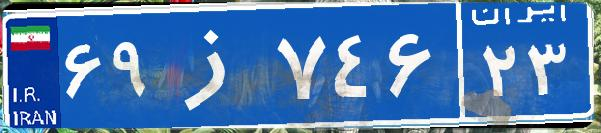2: (475, 38, 525, 113)
3: (525, 38, 570, 115)
4: (330, 28, 385, 110)
6: (385, 28, 445, 110), (57, 26, 110, 107)
7: (273, 28, 330, 110)
9: (110, 28, 158, 105)
ز: (158, 15, 273, 115)
